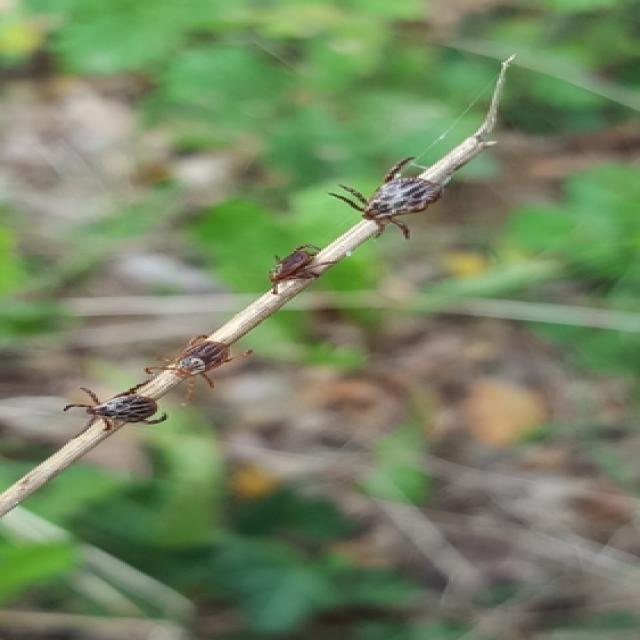Dermacentor Reticulatus-F: (143, 340, 230, 404)
Dermacentor Reticulatus-M: (328, 159, 442, 242), (61, 367, 173, 445)
